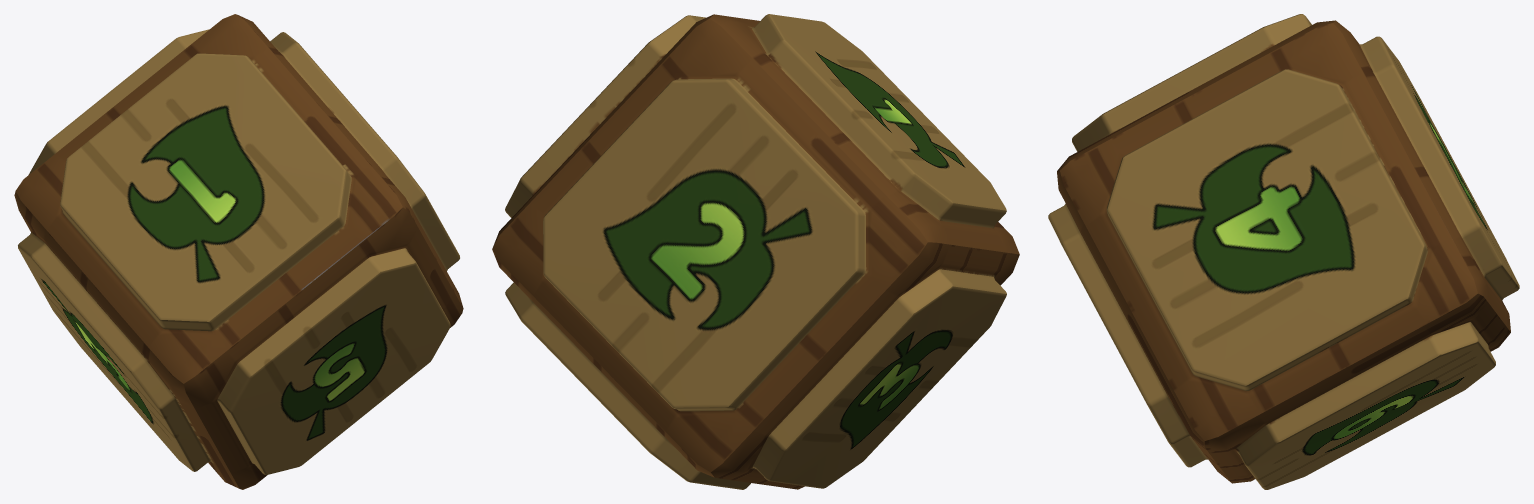
Rendered from dice-6.glb.
The picture shows the model from 3 angles, left to right: view 1: azimuth 30°, elevation 25°; view 2: azimuth 150°, elevation 25°; view 3: azimuth 270°, elevation 25°; orthographic projection. The views are drawn at different scales.
Parts seen in each view (by area): view 1: dice_06; view 2: dice_06; view 3: dice_06.
Part boxes in pixels (left/top/right/bottom): dice_06: left=14, top=14, right=463, bottom=489; dice_06: left=492, top=14, right=1019, bottom=489; dice_06: left=1048, top=14, right=1519, bottom=489.
Size of the model in its own units: 4.08 by 4.45 by 3.98.
1 material, 1 textured.
